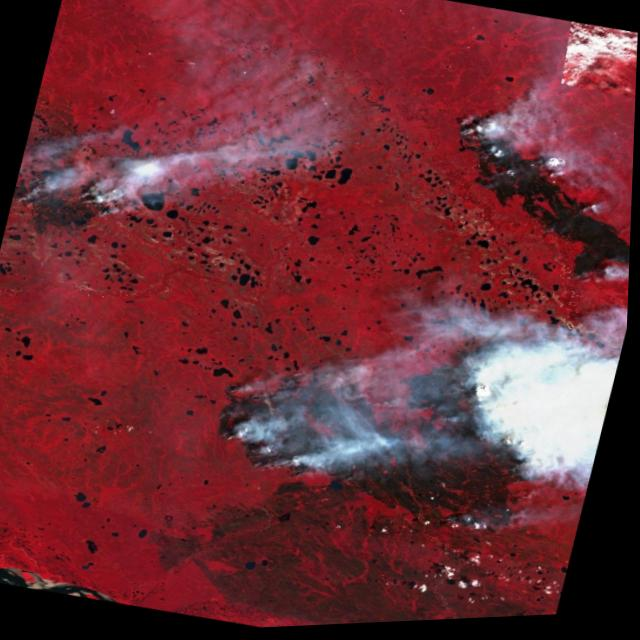fire: (421, 306, 628, 513), (202, 339, 394, 506), (430, 99, 597, 225), (11, 123, 147, 238)
